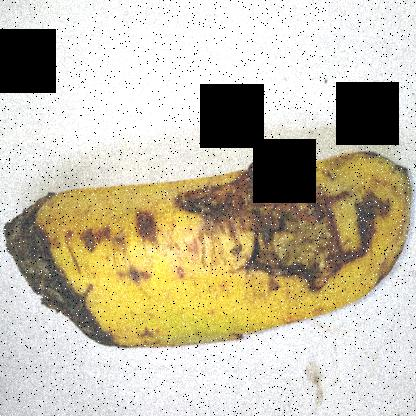rotten: (192, 144, 391, 293), (0, 166, 130, 368)
